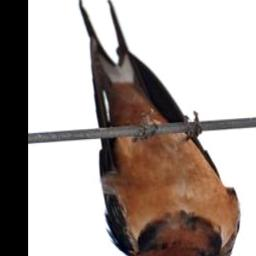Swallow: (76, 0, 243, 256)
